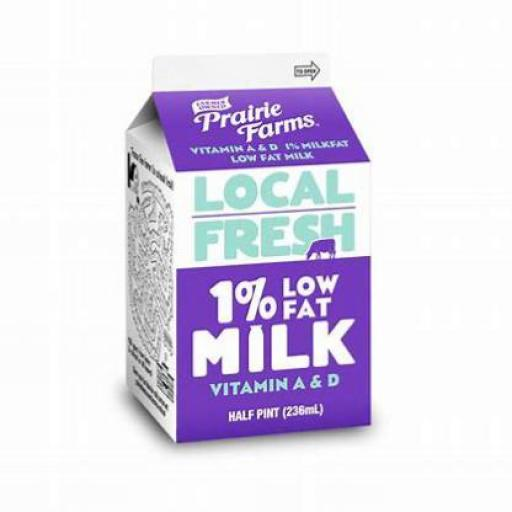drink carton: (123, 46, 375, 444)
